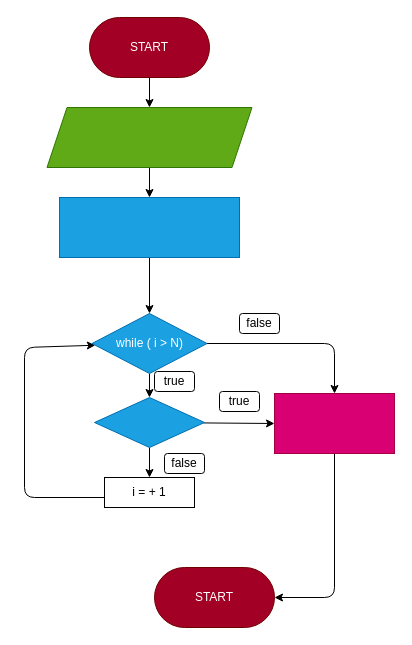
The diagram is 412 pixels wide and 645 high, and some of its shapes have lost their labels. Each missing label, with the centre of its shape:
"if ( max < ai )" belongs at [149,422].
"input: N= a1, a2, a3,......." belongs at [149,137].
"let max = a1; i=0" belongs at [149,227].
"max = ai" belongs at [334,423].
